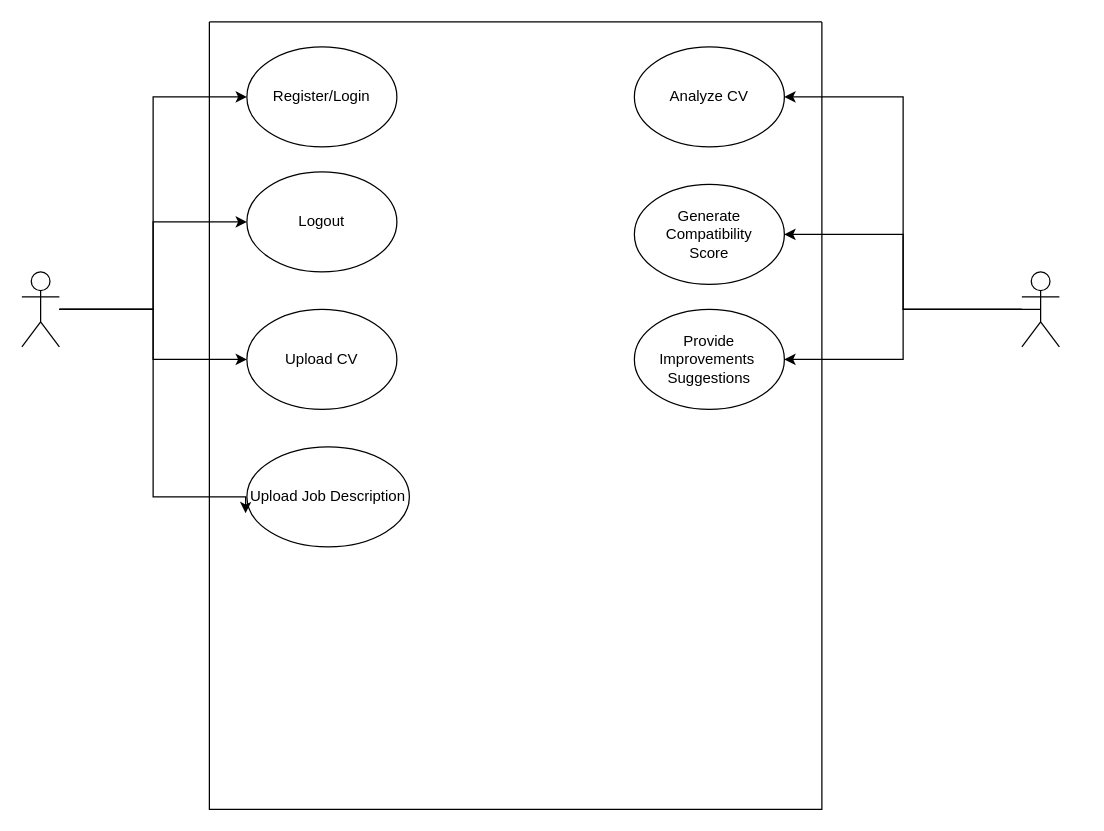
The diagram is 1104 pixels wide and 831 high, and some of its shapes have lost their labels. The centre of each missing label's shape, as x and y in pixels:
"ATS System" belongs at pixel 1040 309.
"User" belongs at pixel 40 309.
